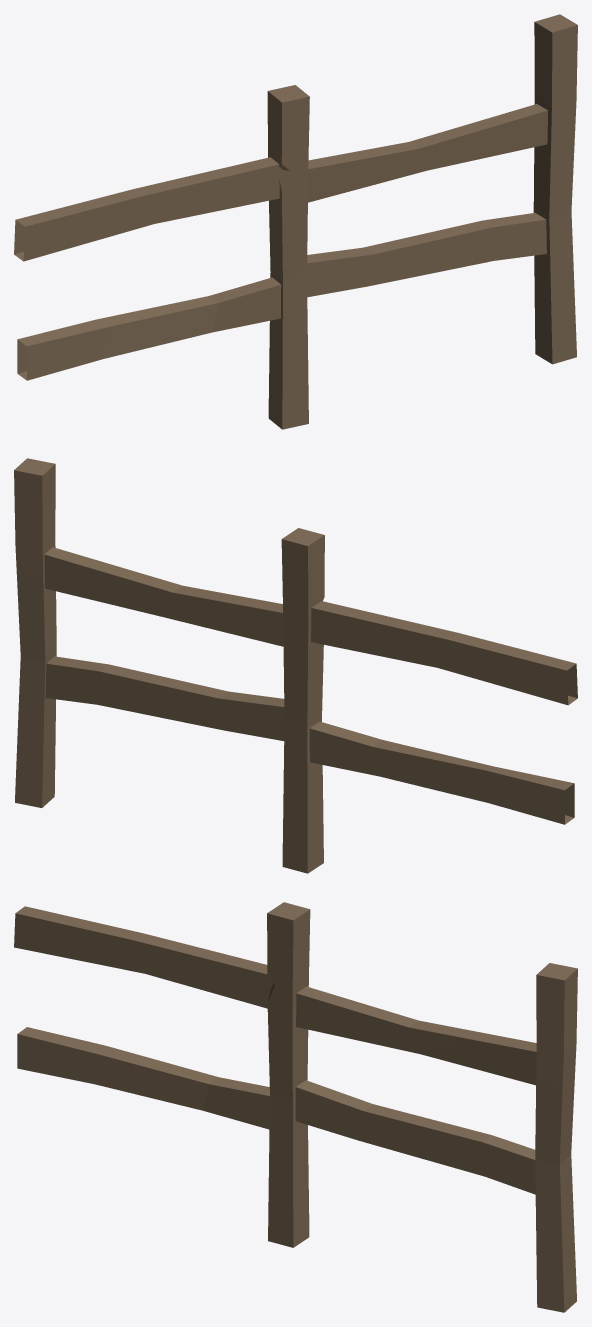
Rendered from fence_b_2m_01.FBX.
3 renders of one model, top to bottom at view 1: azimuth 30°, elevation 25°; view 2: azimuth 150°, elevation 25°; view 3: azimuth 330°, elevation 25°, orthographic.
Visible parts, largest first — view 1: fence_b_2m_01; view 2: fence_b_2m_01; view 3: fence_b_2m_01.
Part boxes in pixels (x1,y1,x2,y2): fence_b_2m_01: (14,14,577,429); fence_b_2m_01: (14,458,577,873); fence_b_2m_01: (14,902,577,1312).
Bounding box in the file's own units: 2.05 × 1.18 × 0.1089.
